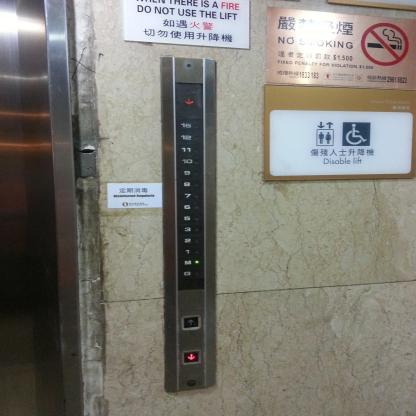1: (176, 245, 204, 259)
10: (176, 154, 204, 169)
11: (176, 142, 204, 157)
12: (175, 130, 204, 144)
15: (175, 118, 204, 132)
2: (176, 233, 204, 248)
3: (176, 222, 204, 236)
5: (176, 211, 204, 225)
6: (176, 199, 204, 214)
7: (176, 189, 204, 203)
8: (176, 177, 204, 192)
9: (176, 166, 204, 180)
G: (176, 266, 205, 280)
M: (176, 255, 204, 269)
down: (181, 350, 201, 364)
led: (175, 83, 203, 109)
up: (181, 314, 201, 330)
